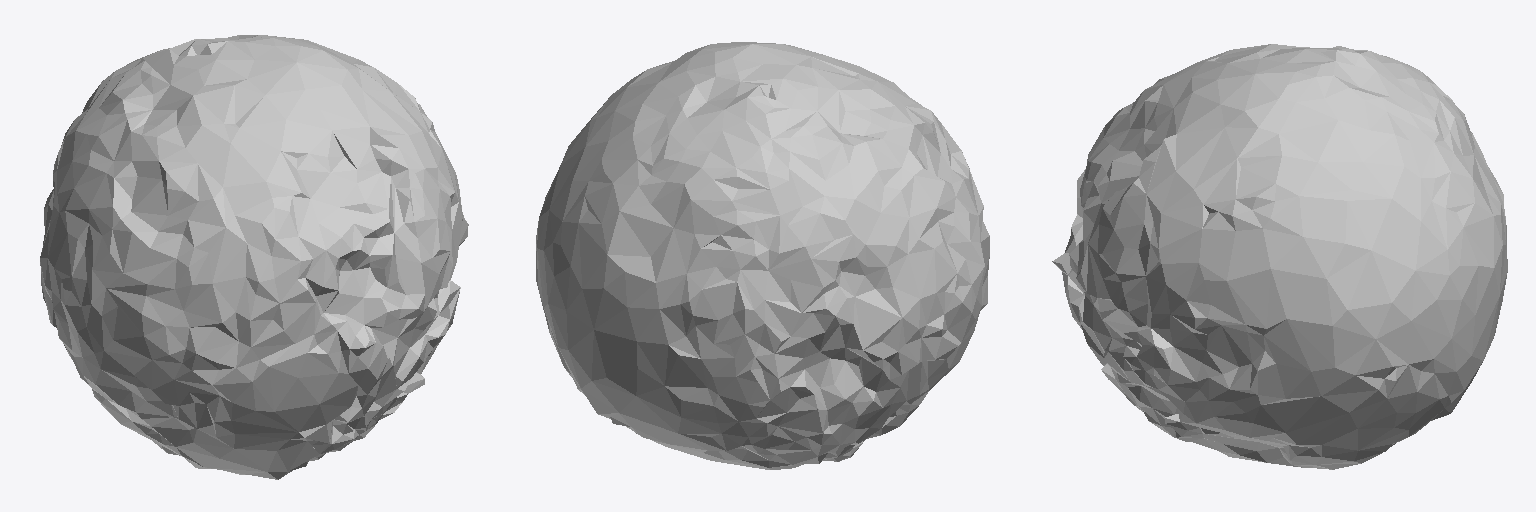
Rendered from asteroidMid.obj.
3 renders of one model, left to right at view 1: azimuth 30°, elevation 25°; view 2: azimuth 150°, elevation 25°; view 3: azimuth 270°, elevation 25°, orthographic.
Visible parts, largest first — view 1: file1.001; view 2: file1.001; view 3: file1.001.
Part boxes in pixels (x1,y1,x2,y2): file1.001: (40, 35, 468, 479); file1.001: (536, 42, 989, 469); file1.001: (1052, 44, 1507, 469).
Bounding box in the file's own units: 1.96 × 1.92 × 2.01.